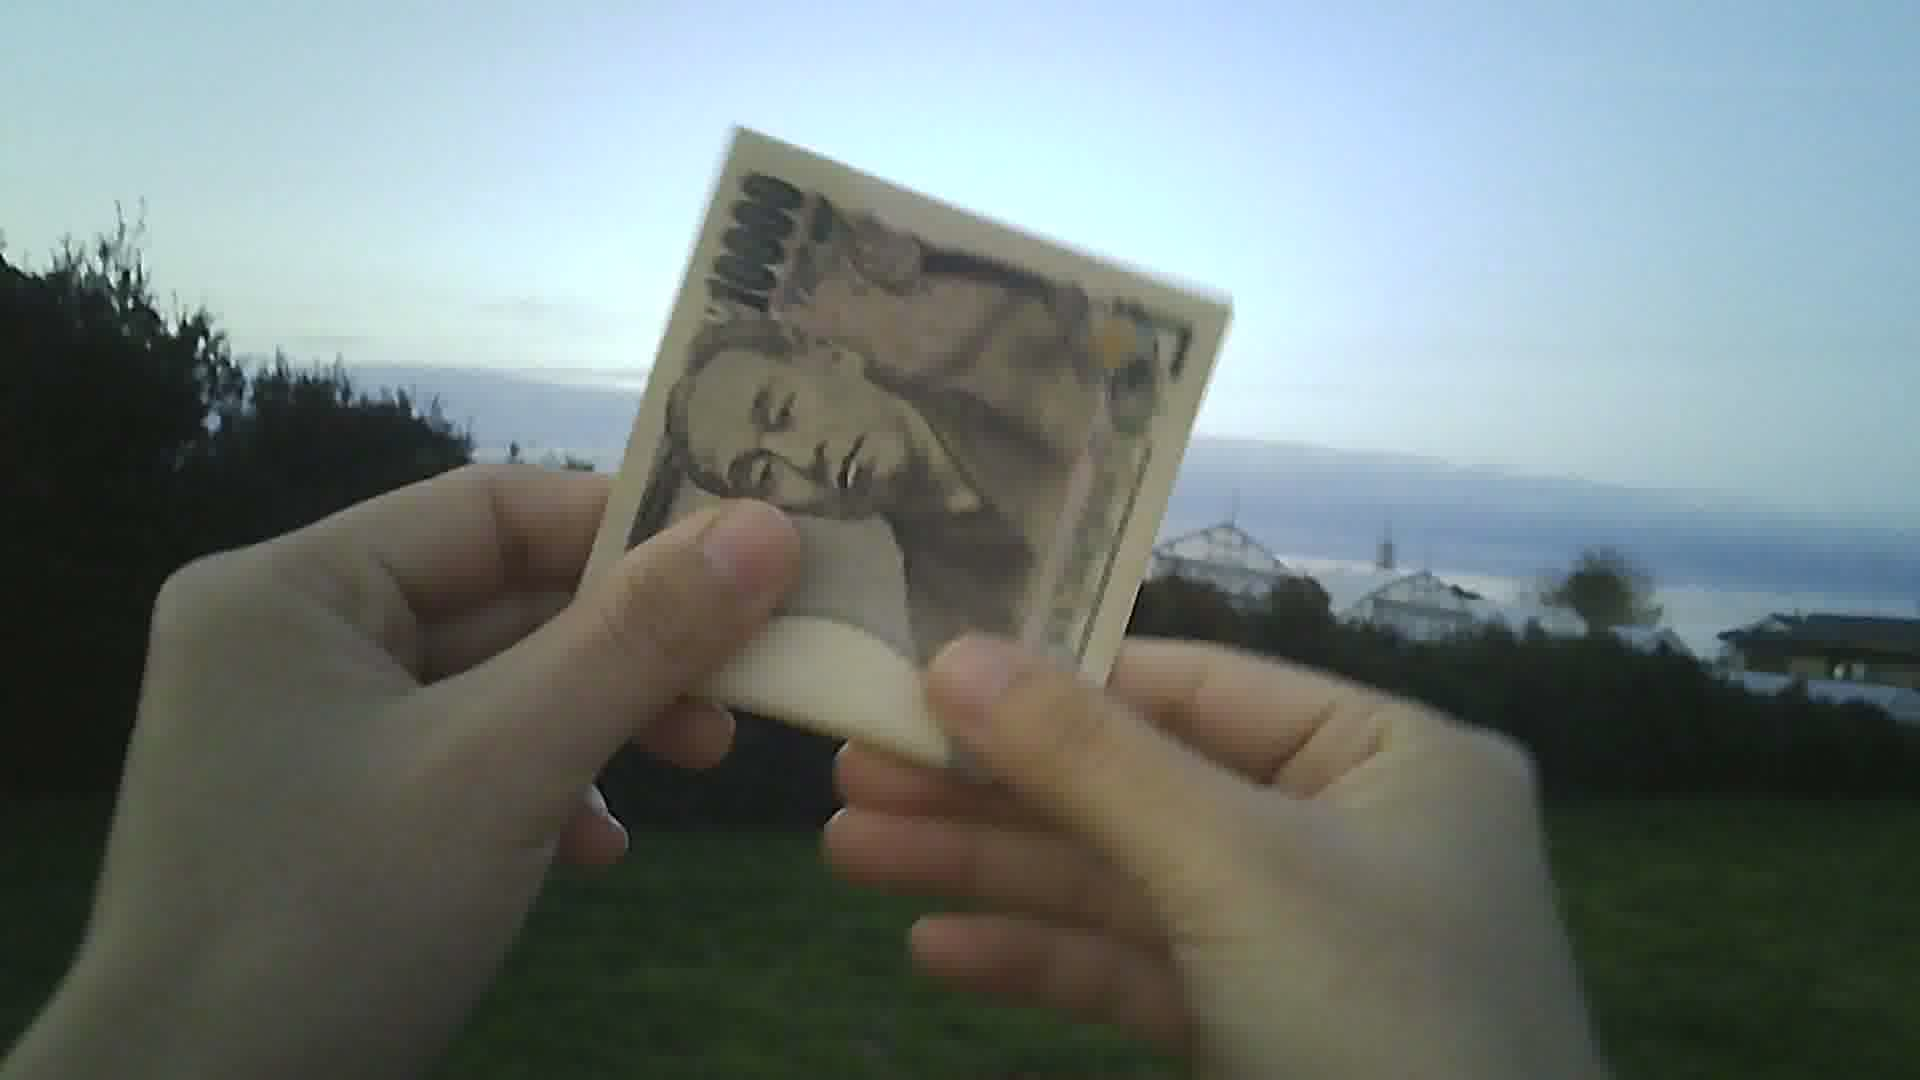10,000 Yen: (579, 91, 1232, 796)
